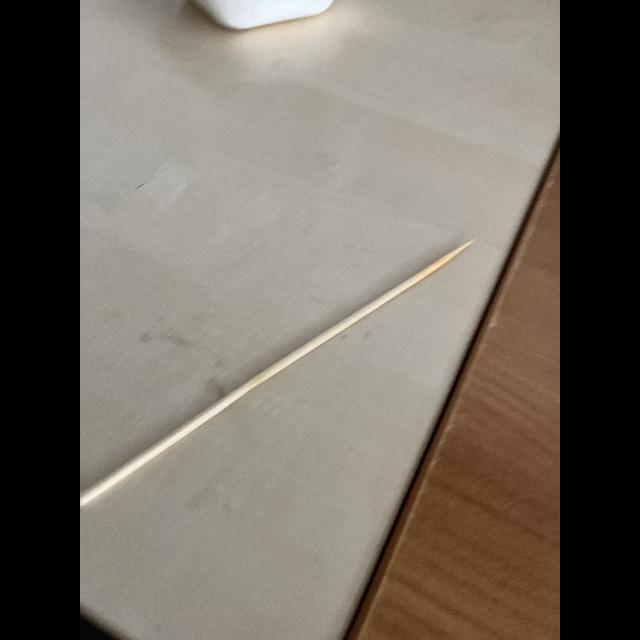stick: (80, 235, 478, 509)
